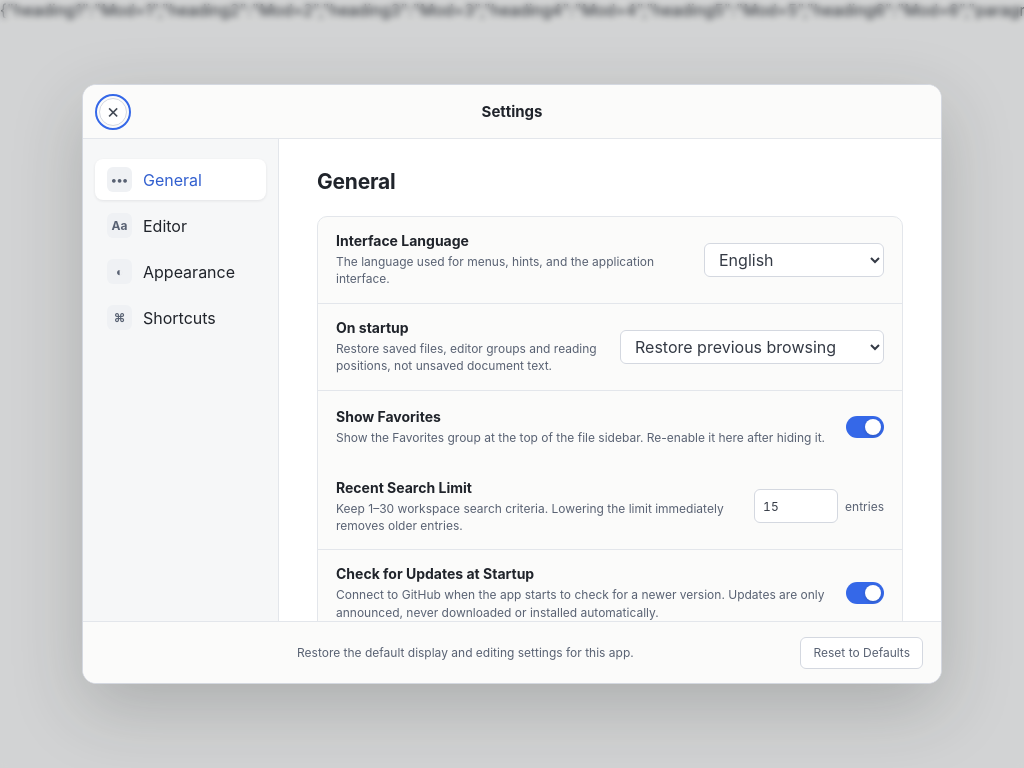
Test: ShortcutSettings › filters actions and restores only shortcut defaults
This screenshot has width=1024, height=768.
Click the tab "⌘ Shortcuts": point(180, 318) [95,297,266,338]
(page scrolled)
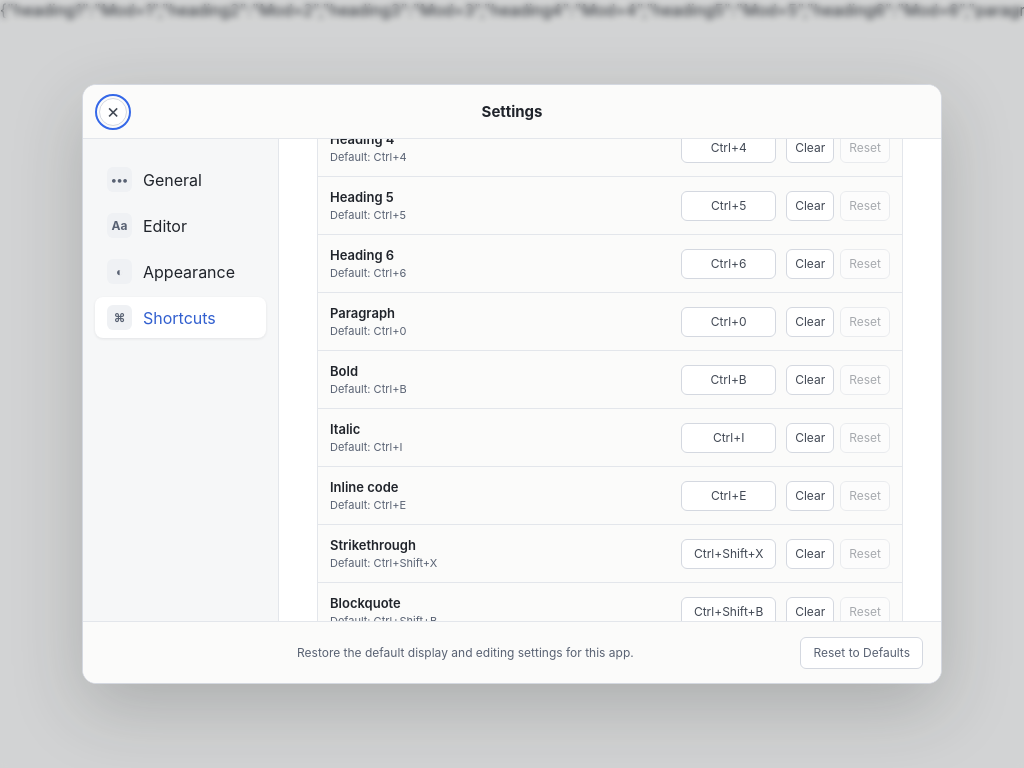
Click the button with aria-label "Record shortcut for Bold": point(729, 380) [681,365,776,395]
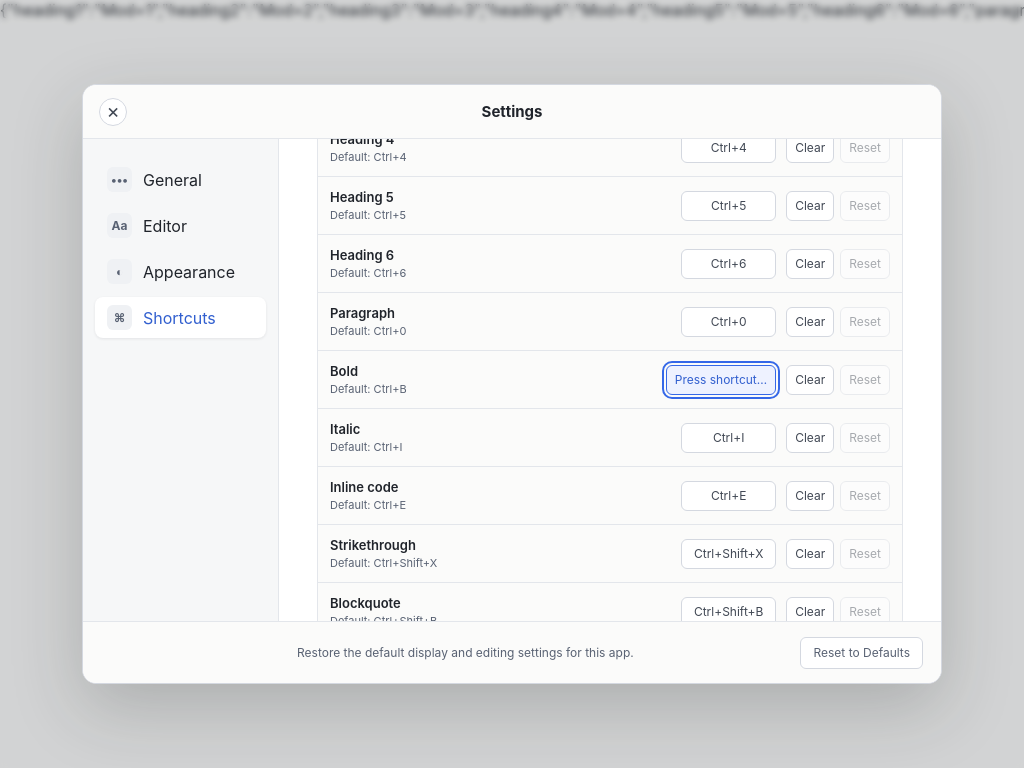
Press j in the button with aria-label "Record shortcut for Bold", box [666,365,776,395]
(page scrolled)
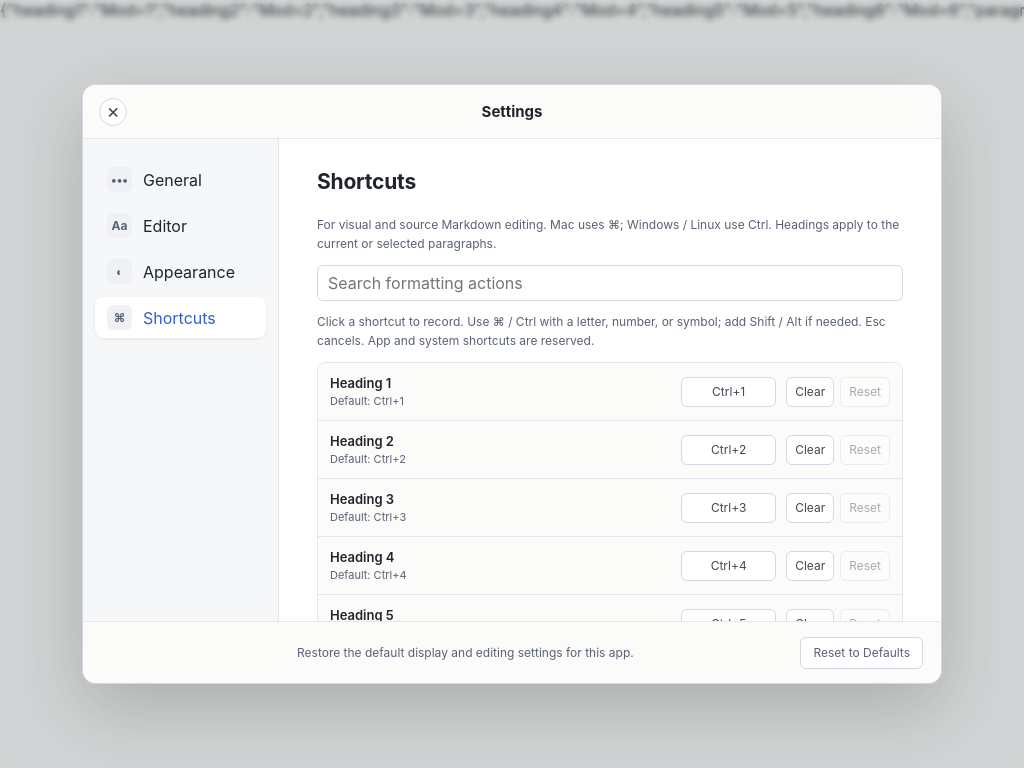
In the search field: point(610, 283) [317,265,903,301], type "Bold"
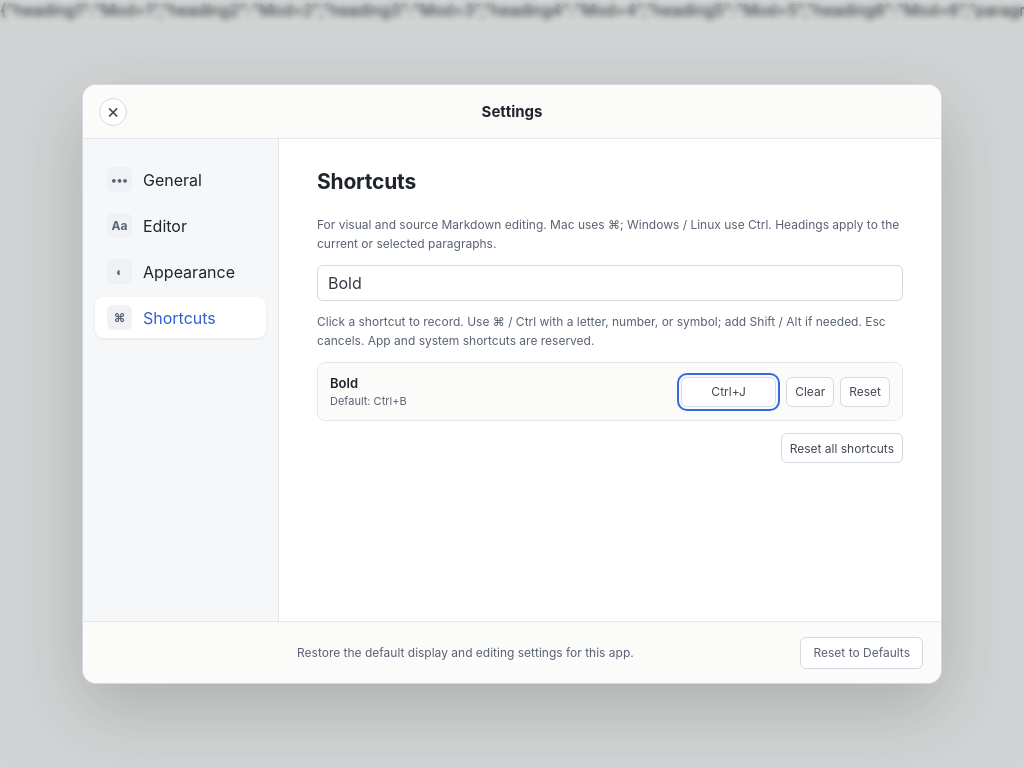
Now the button with aria-label "Record shortcut for Bold" is shown, box [681,377,776,407]
Click the button "Reset all shortcuts": point(842, 448) [781,433,903,463]
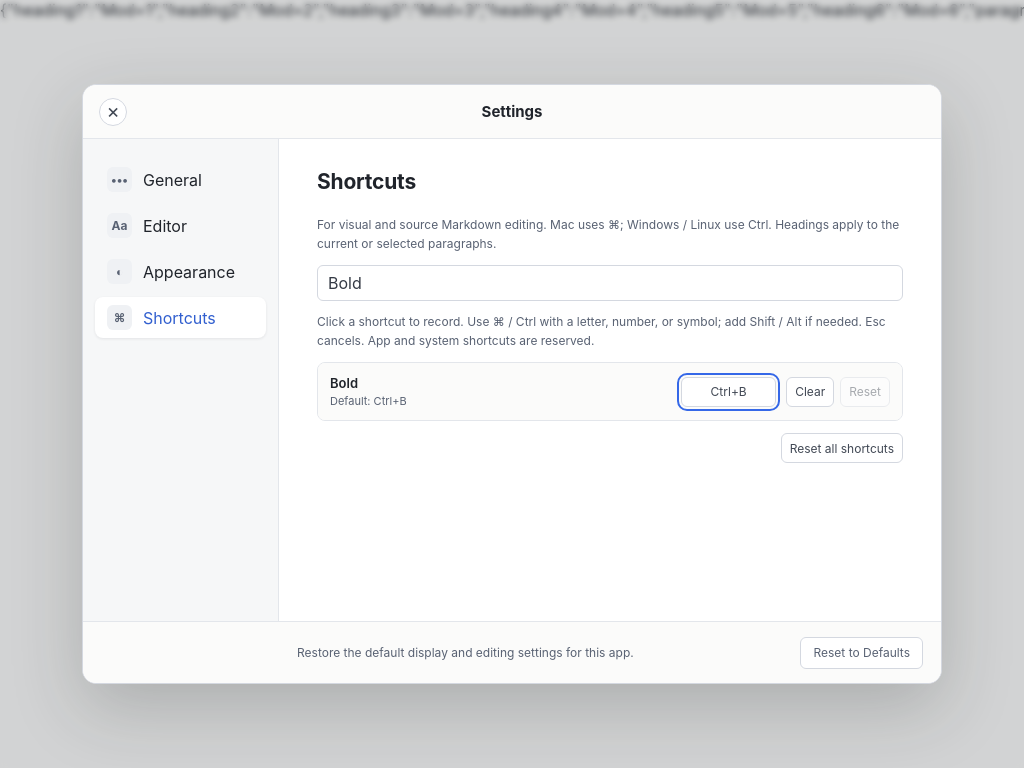
Now the button with aria-label "Record shortcut for Bold" reads "Ctrl+B", box [681,377,776,407]
Replace the text in the search field with "no-such-action": point(610, 283) [317,265,903,301]
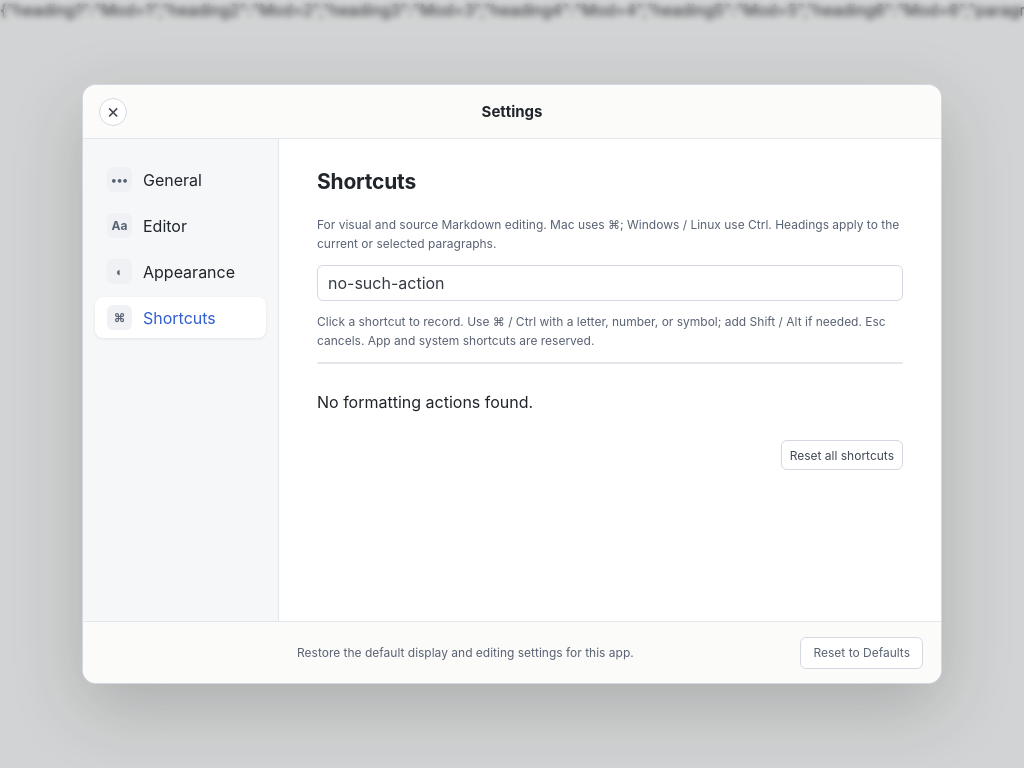
Now the text "No formatting actions found." is shown, box [317,392,533,412]
